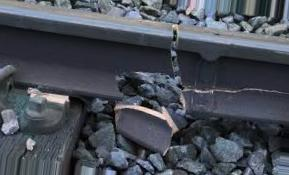tracks_fault: (151, 20, 200, 111)
